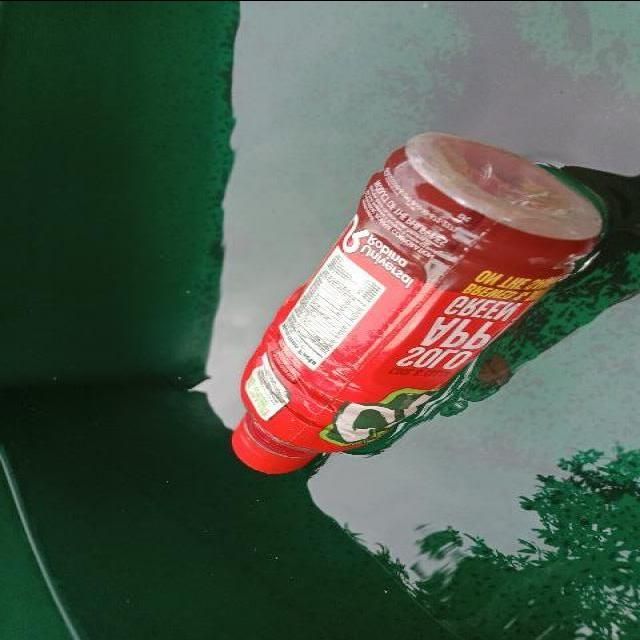Bottle: (219, 120, 617, 486)
